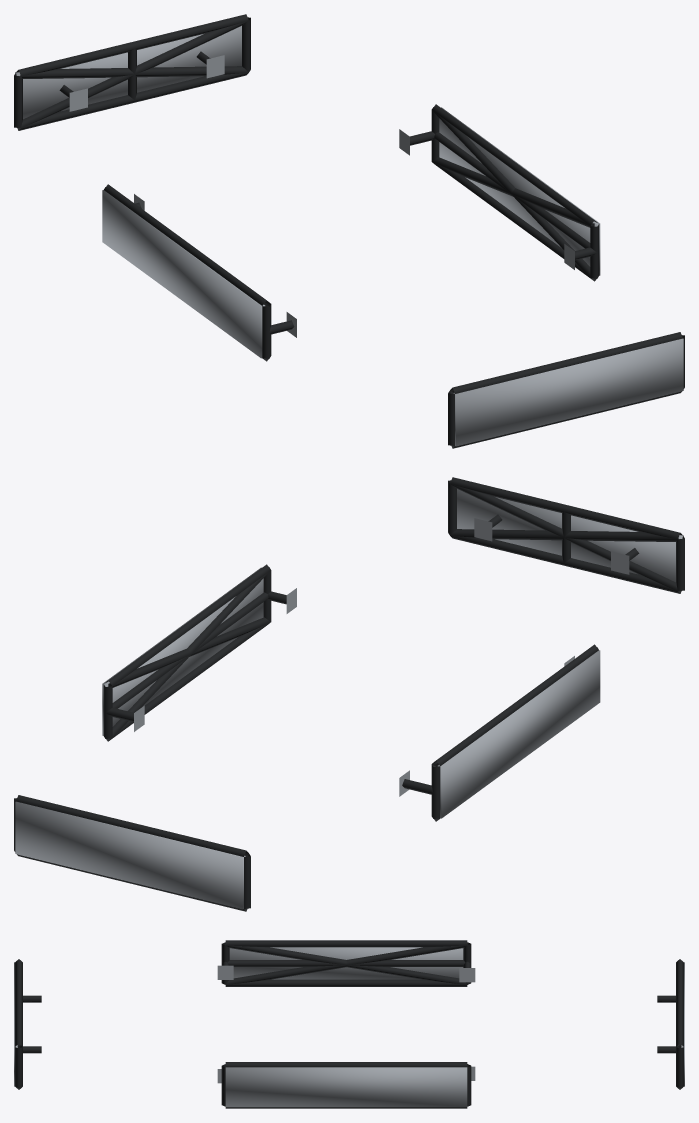
File: garrison_ladeira_protecao.glb
3 renders of one model, top to bottom at view 1: azimuth 30°, elevation 25°; view 2: azimuth 150°, elevation 25°; view 3: azimuth 270°, elevation 25°, orthographic. The views are drawn at different scales.
Visible parts, largest first — view 1: Protection_front_Level3_Details, Protection_left_Level3_Details, Protection_rear_Level1_Details, Protection_rear_Level3_Details, Protection_right_Level1_Details, Protection_rear_Level2_Details, Protection_right_Level2_Details, Protection_right_Level3_Details, Protection_front_Level1_Details, Protection_left_Level1_Details; view 2: Protection_rear_Level3_Details, Protection_left_Level3_Details, Protection_front_Level1_Details, Protection_front_Level3_Details, Protection_right_Level1_Details, Protection_front_Level2_Details, Protection_right_Level2_Details, Protection_right_Level3_Details, Protection_rear_Level1_Details, Protection_left_Level1_Details; view 3: Protection_right_Level3_Details, Protection_left_Level2_Details, Protection_left_Level1_Details, Protection_left_Level3_Details, Protection_right_Level1_Details, Protection_rear_Level1_Details, Protection_front_Level1_Details.
Boxes of the visible parts, <box> form: Protection_front_Level3_Details: <box>453,338,683,446</box>; Protection_left_Level3_Details: <box>102,190,265,358</box>; Protection_rear_Level1_Details: <box>14,14,250,130</box>; Protection_rear_Level3_Details: <box>15,26,241,119</box>; Protection_right_Level1_Details: <box>399,104,599,281</box>; Protection_rear_Level2_Details: <box>16,21,248,129</box>; Protection_right_Level2_Details: <box>432,110,598,280</box>; Protection_right_Level3_Details: <box>439,107,600,275</box>; Protection_front_Level1_Details: <box>448,332,684,448</box>; Protection_left_Level1_Details: <box>104,184,296,361</box>; Protection_rear_Level3_Details: <box>15,801,245,909</box>; Protection_left_Level3_Details: <box>437,650,600,818</box>; Protection_front_Level1_Details: <box>448,477,684,593</box>; Protection_front_Level3_Details: <box>457,489,683,582</box>; Protection_right_Level1_Details: <box>103,564,296,741</box>; Protection_front_Level2_Details: <box>450,484,682,592</box>; Protection_right_Level2_Details: <box>104,570,270,741</box>; Protection_right_Level3_Details: <box>102,567,263,735</box>; Protection_rear_Level1_Details: <box>14,795,250,911</box>; Protection_left_Level1_Details: <box>399,644,598,821</box>; Protection_right_Level3_Details: <box>225,1067,467,1107</box>; Protection_left_Level2_Details: <box>225,943,467,984</box>; Protection_left_Level1_Details: <box>217,940,475,986</box>; Protection_left_Level3_Details: <box>229,947,463,979</box>; Protection_right_Level1_Details: <box>217,1062,475,1108</box>; Protection_rear_Level1_Details: <box>657,959,683,1089</box>; Protection_front_Level1_Details: <box>15,959,41,1089</box>.
Size of the model in its own units: 2.05 by 0.354 by 4.61.
Materials: 1 (1 with a texture image).
